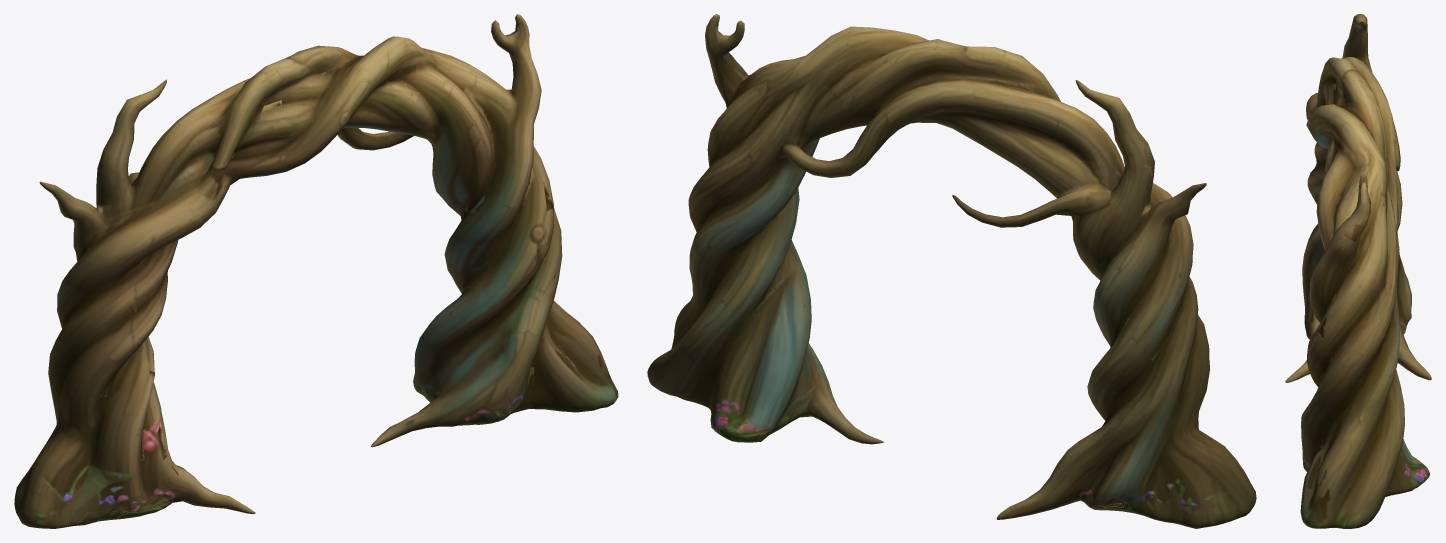
File: CurveTrunk.fbx
The picture shows the model from 3 angles, left to right: view 1: azimuth 30°, elevation 25°; view 2: azimuth 150°, elevation 25°; view 3: azimuth 270°, elevation 25°; orthographic projection. The views are drawn at different scales.
Parts seen in each view (by area): view 1: CurveTrunk_LOD0; view 2: CurveTrunk_LOD0; view 3: CurveTrunk_LOD0.
Part boxes in pixels (left/top/right/bottom): CurveTrunk_LOD0: left=14, top=14, right=618, bottom=528; CurveTrunk_LOD0: left=647, top=14, right=1256, bottom=528; CurveTrunk_LOD0: left=1285, top=14, right=1431, bottom=528.
Size of what is drawn, in the model's own units: 1.79 by 1.21 by 0.4649.
